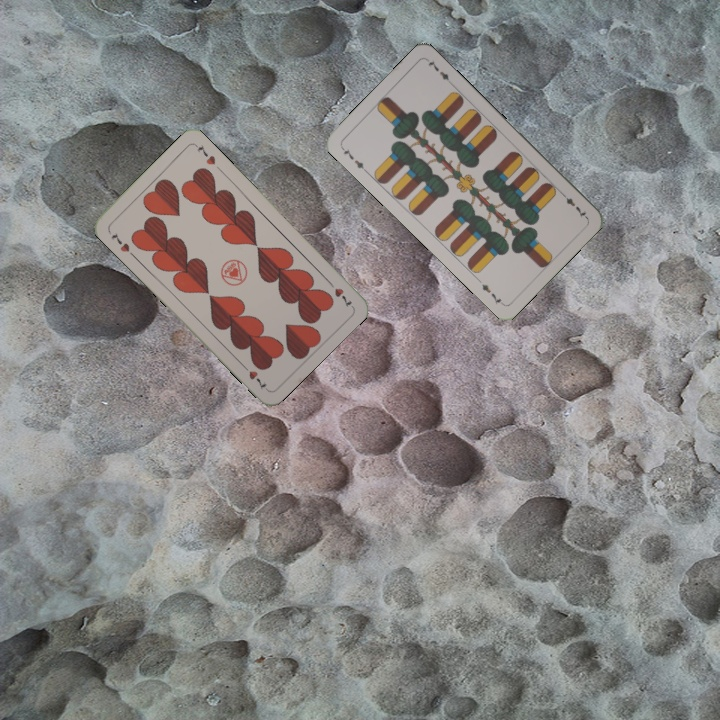E7: (337, 143, 370, 175), (557, 188, 589, 220)
H7: (324, 276, 355, 310), (107, 228, 132, 255)
